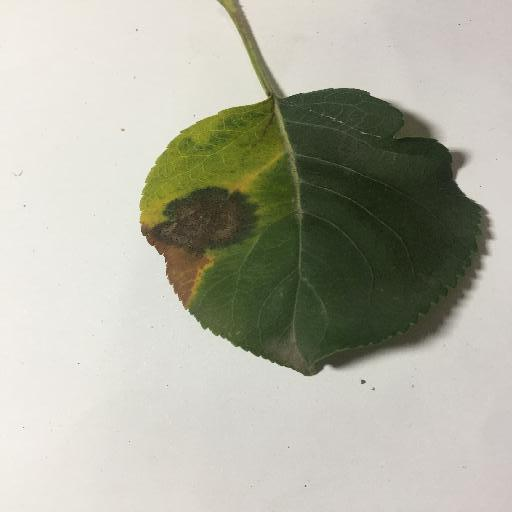Brown_Spot: (150, 185, 255, 246)
